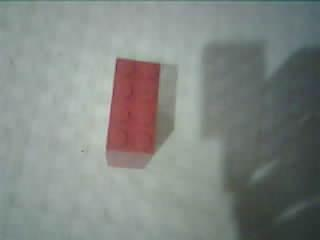lego: (103, 56, 161, 169)
